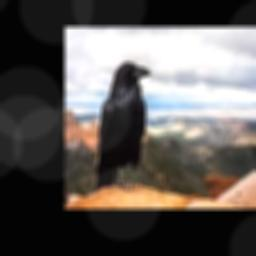Crow: (95, 61, 151, 191)
